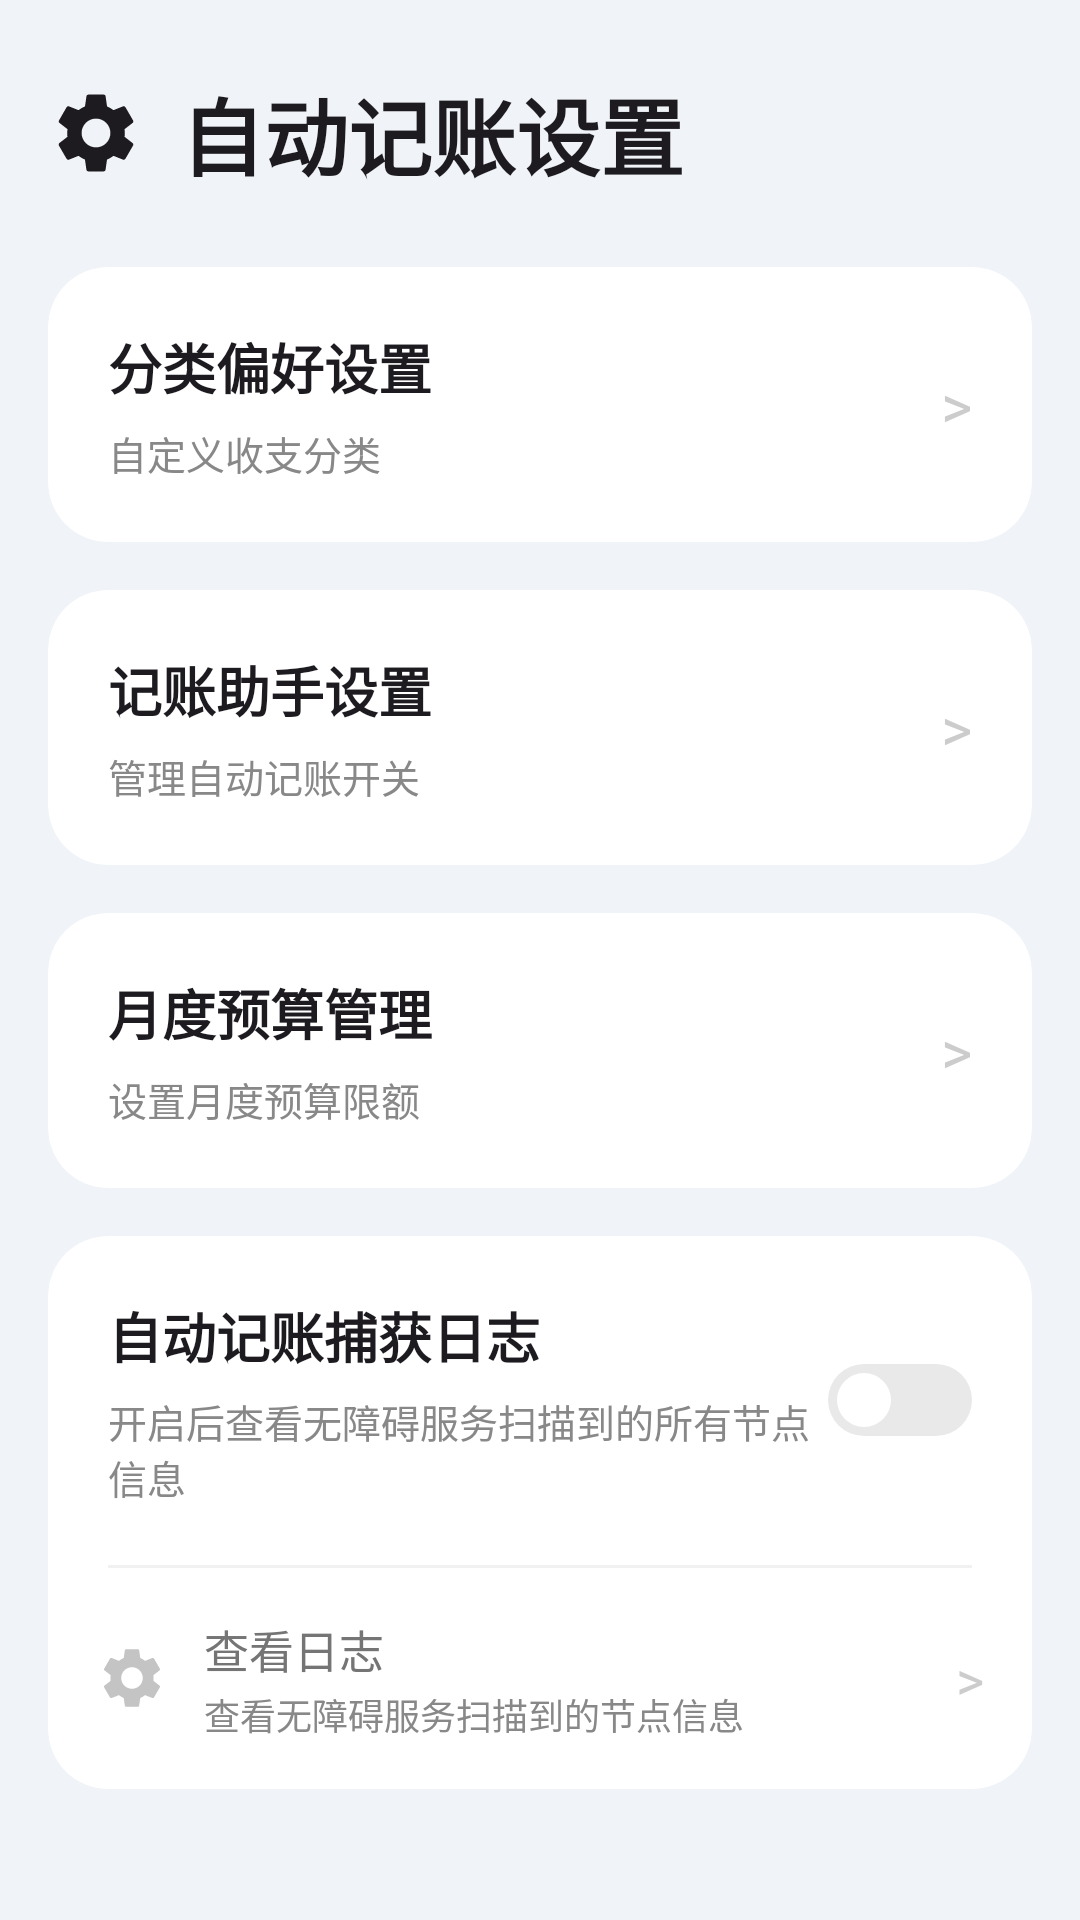

Screen size 1080×1920. Icon name, then its box in pixels as detection(x1, y1, x2, y2):
settings: detection(58, 94, 134, 172), detection(104, 1649, 160, 1707)
